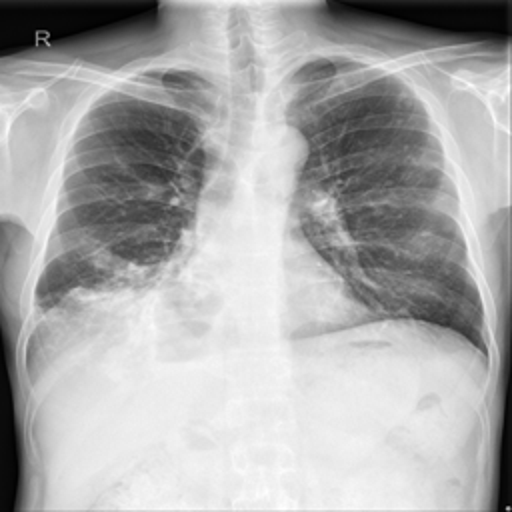TB: (42, 194, 182, 328)
